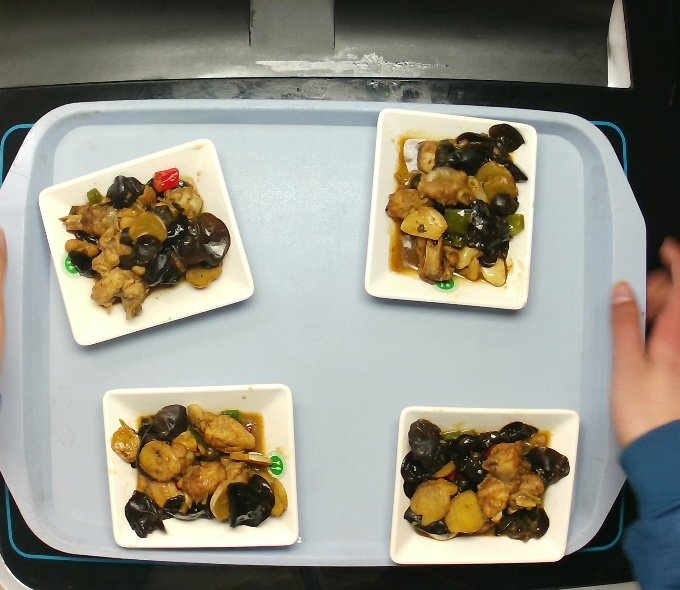wcq-MuErJiKuai: (53, 151, 238, 325), (380, 113, 534, 295), (112, 384, 286, 543), (399, 423, 566, 539)
